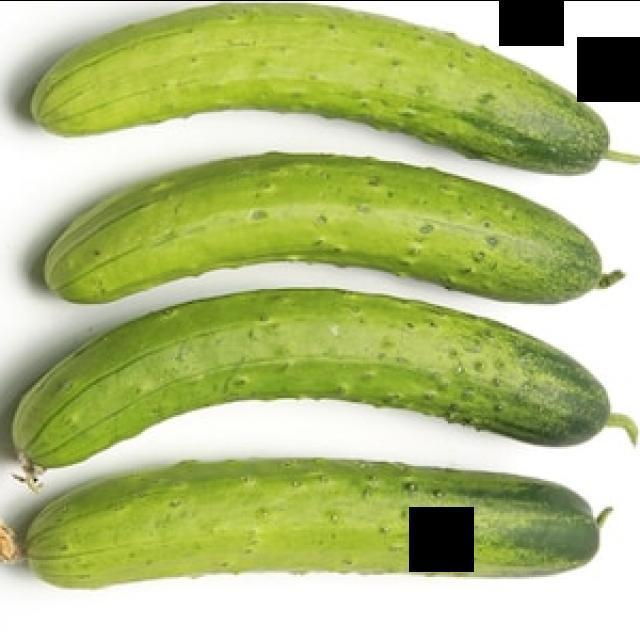cucumber: (0, 0, 640, 600), (17, 0, 627, 186), (0, 289, 632, 459), (0, 470, 623, 596)
